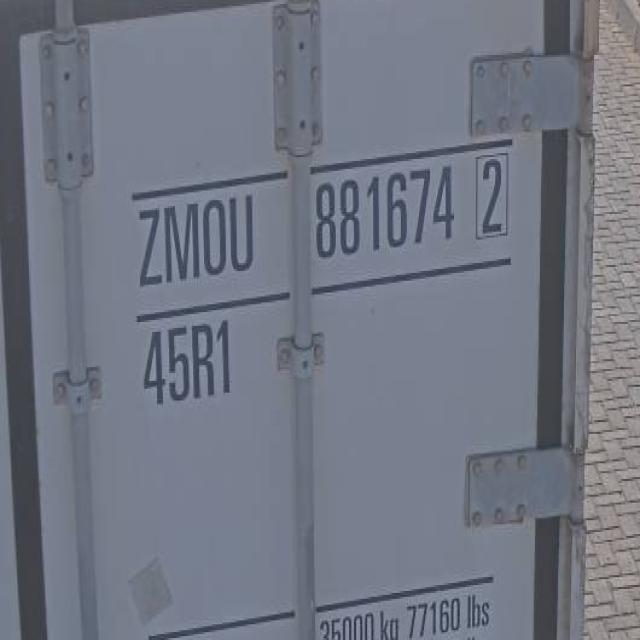dv: (464, 143, 518, 251)
owner: (127, 189, 274, 295)
serial: (309, 155, 456, 270)
size: (136, 309, 242, 410)
